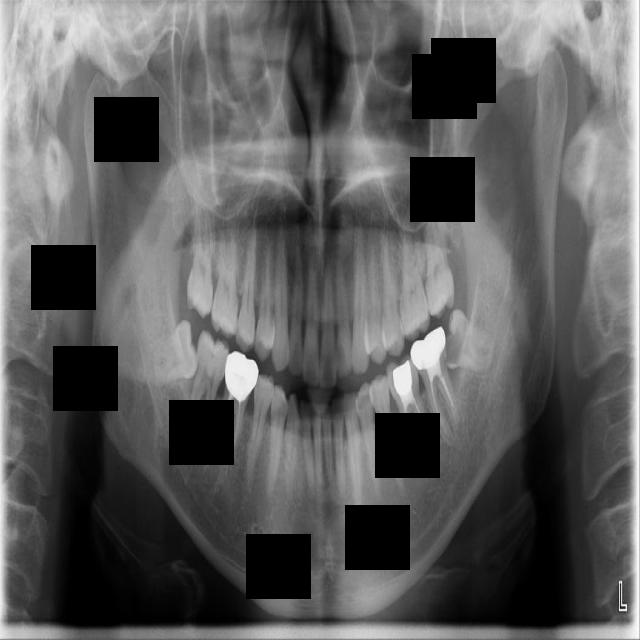52: (403, 325, 459, 377), (382, 347, 424, 403), (224, 351, 260, 399), (444, 326, 466, 365)
73: (418, 357, 468, 447), (205, 383, 251, 466), (391, 385, 438, 464)
BioHorizons Implant: (424, 171, 455, 320)
Biomet 3i Implant: (441, 308, 502, 376)
Blue Sky Bio Implant: (406, 326, 464, 445)
Caries: (177, 173, 219, 320)
Implant: (183, 328, 233, 446)
Keystone Dental Implant: (144, 318, 204, 387)
